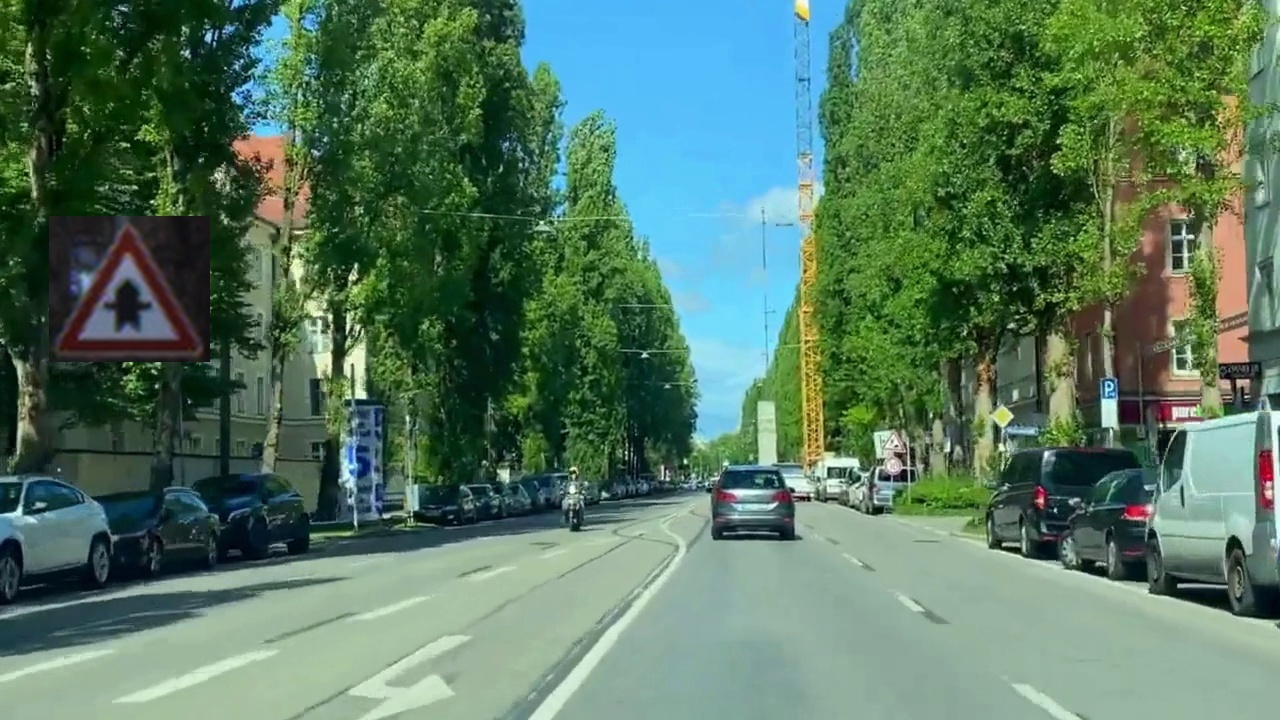Right-of-way: (49, 216, 210, 362)
